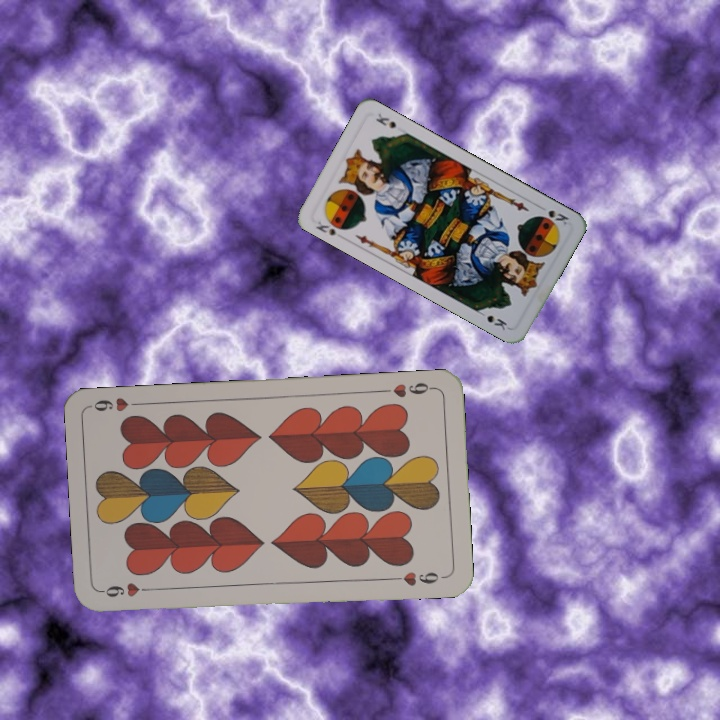H9: (378, 378, 437, 400), (98, 579, 158, 600)
SK: (534, 201, 571, 228), (312, 217, 339, 238)
